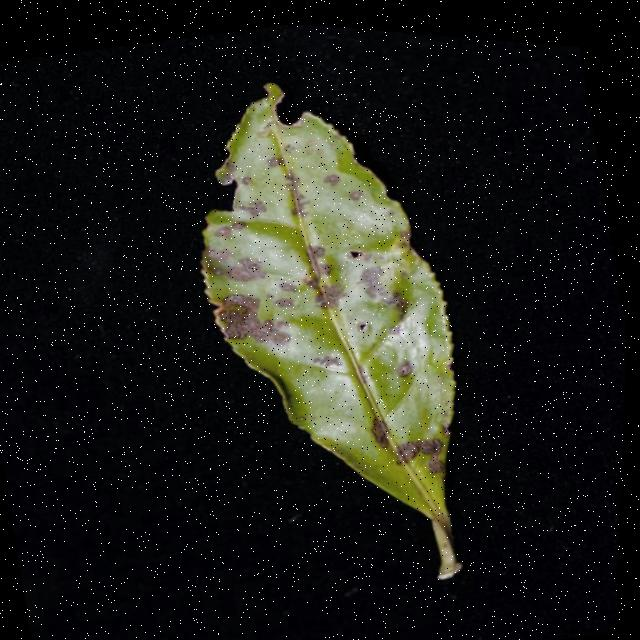Tea red rust: (159, 52, 479, 495)
